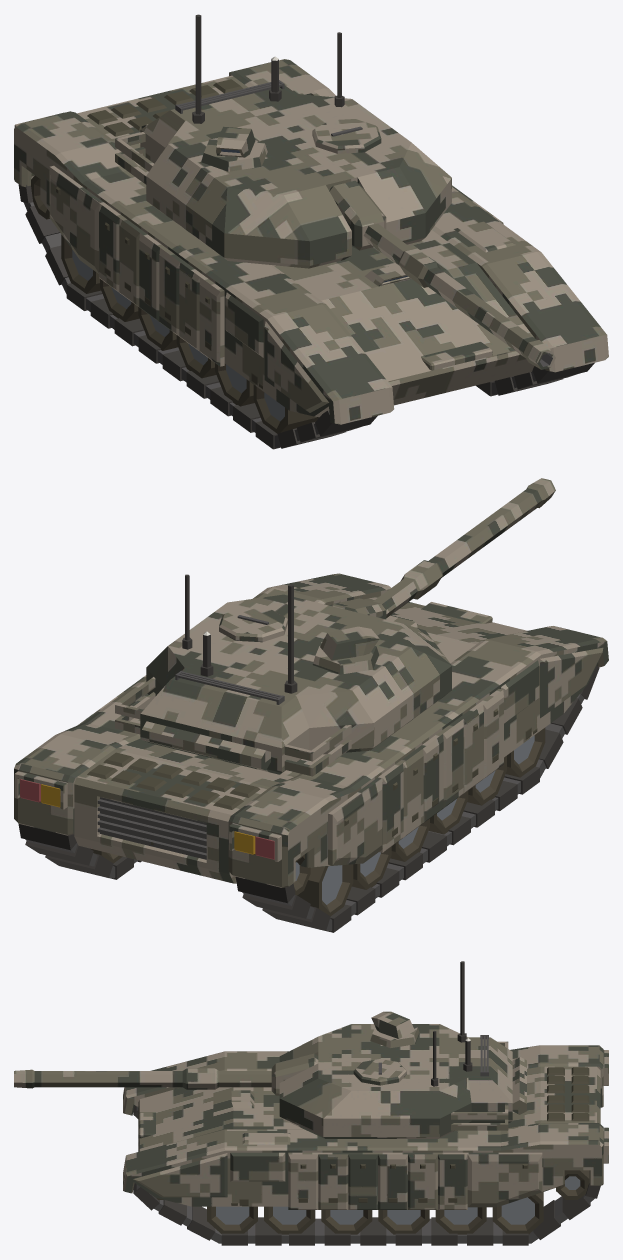
The model's file is tank.glb.
3 views of the same model, one above another, from view 1: azimuth 30°, elevation 25°; view 2: azimuth 150°, elevation 25°; view 3: azimuth 270°, elevation 25° (orthographic). The views are drawn at different scales.
Visible parts, largest first — view 1: SM_Tank_001; view 2: SM_Tank_001; view 3: SM_Tank_001.
Boxes of the visible parts, <box> form: SM_Tank_001: <box>14,14,608,449</box>; SM_Tank_001: <box>14,478,608,932</box>; SM_Tank_001: <box>14,961,608,1245</box>.
Bounding box in the file's own units: 3.75 × 3.62 × 8.94.
1 material, 1 textured.
